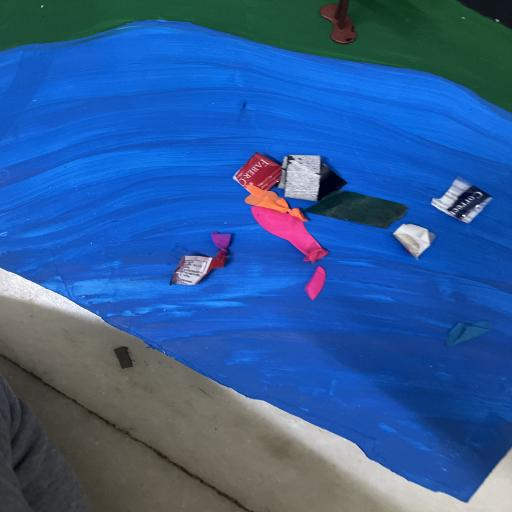trash: (168, 150, 496, 302)
